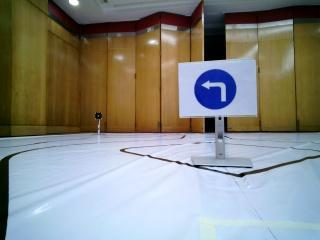left: (178, 65, 262, 116)
